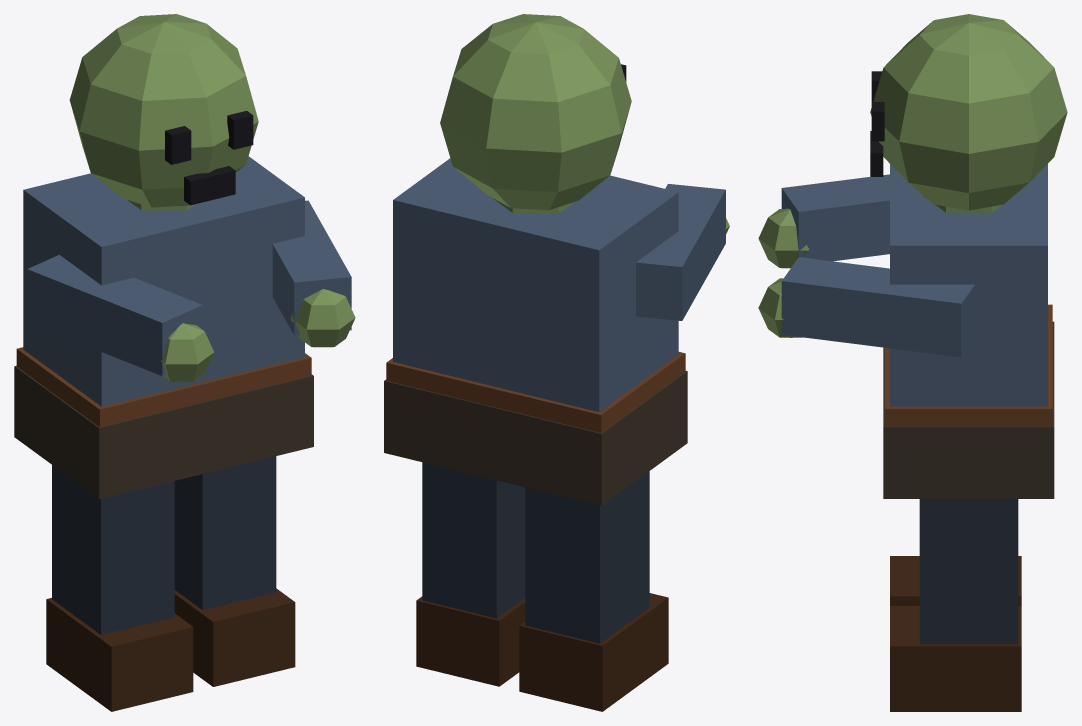
The model's file is e_zombie.fbx.
The picture shows the model from 3 angles, left to right: view 1: azimuth 30°, elevation 25°; view 2: azimuth 150°, elevation 25°; view 3: azimuth 270°, elevation 25°; orthographic projection.
Visible parts, largest first — view 1: e_zombie_Body, e_zombie_LegR, e_zombie_LegL; view 2: e_zombie_Body, e_zombie_LegR, e_zombie_LegL; view 3: e_zombie_Body, e_zombie_LegL, e_zombie_LegR.
Part boxes in pixels (<box>): e_zombie_Body: <box>14,14,355,499</box>; e_zombie_LegR: <box>46,465,193,711</box>; e_zombie_LegL: <box>174,456,295,686</box>; e_zombie_Body: <box>384,14,729,505</box>; e_zombie_LegR: <box>519,471,668,711</box>; e_zombie_LegL: <box>416,462,525,686</box>; e_zombie_Body: <box>758,14,1067,498</box>; e_zombie_LegL: <box>890,499,1021,711</box>; e_zombie_LegR: <box>890,556,1021,605</box>.
Bounding box in the file's own units: 0.4977 × 1.08 × 0.47.
